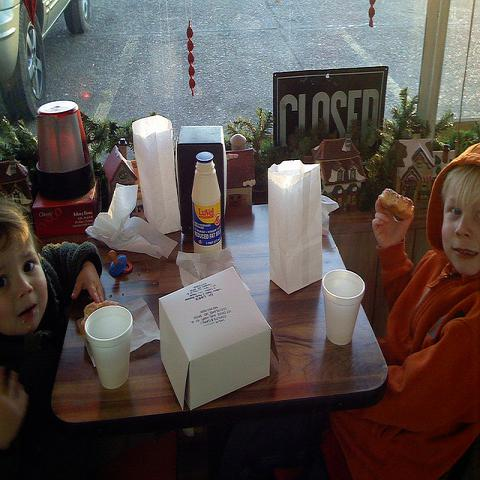car: (1, 0, 88, 122)
